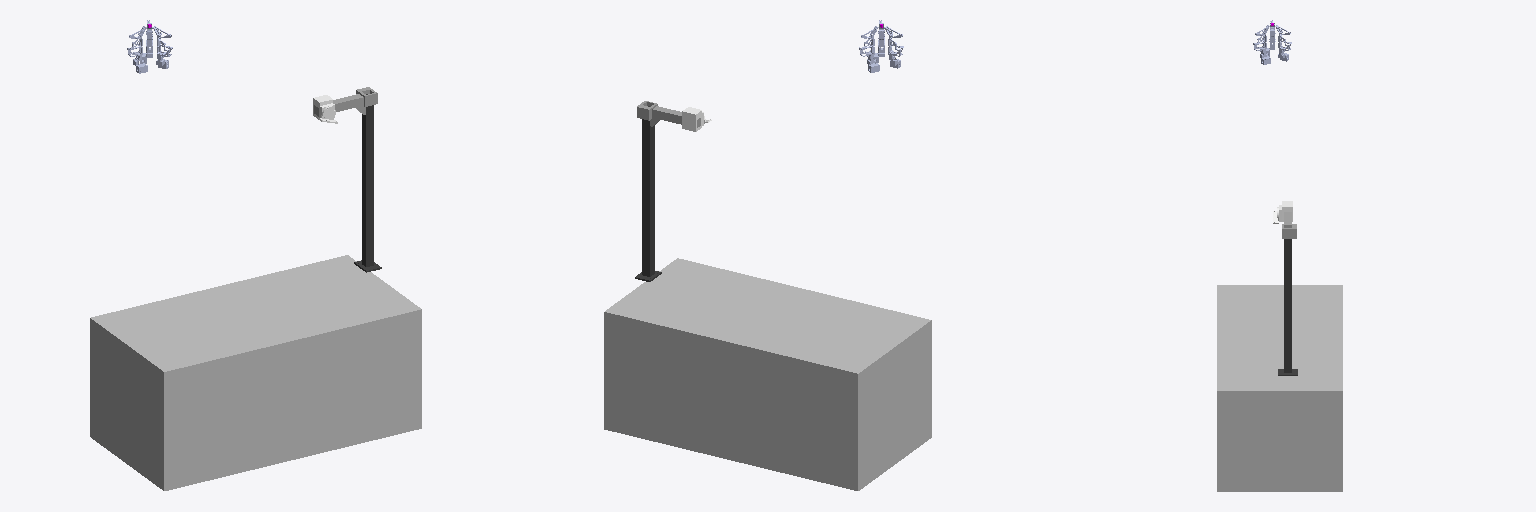
--- Facts derived from the render (not from the file) ---
The picture shows the robot from 3 angles, left to right: view 1: azimuth 30°, elevation 25°; view 2: azimuth 150°, elevation 25°; view 3: azimuth 270°, elevation 25°; orthographic projection.
Robot: picking — 27 links, 26 joints (10 revolute, 3 prismatic, 13 fixed); root link world_base; default pose: every joint at zero.
Links seen in each view (by area): view 1: plate_link, cam_stand_link, cam_stand_arm_link; view 2: plate_link, cam_stand_link, cam_stand_arm_link; view 3: plate_link, cam_stand_link.
Link boxes in pixels (x1,y1,x2,y2): plate_link: (90, 255, 421, 490); cam_stand_link: (354, 94, 381, 272); cam_stand_arm_link: (314, 87, 377, 116); plate_link: (604, 258, 931, 490); cam_stand_link: (635, 106, 661, 281); cam_stand_arm_link: (637, 101, 700, 127); plate_link: (1217, 285, 1342, 491); cam_stand_link: (1278, 239, 1297, 375).
Bounding box of the posed robot: 1.62 × 0.8 × 2.6 m (x, y, z).
11 mesh visuals loaded from 23 distinct referenced files (11 binary STL); not drawn: 12 (reference not matched to a file when rendering).

robot.urdf — picking:
<?xml version="1.0" ?>
<!-- =================================================================================== -->
<!-- |    This document was autogenerated by xacro from [local-path]/catkin_ws/src/twc-stable-push-task/description/push_description/urdf/picking.xacro | -->
<!-- |    EDITING THIS FILE BY HAND IS NOT RECOMMENDED                                 | -->
<!-- =================================================================================== -->
<robot name="picking">
    <!-- robotiq, calibration, hanyang -->
    <!-- [rad] -->
    <!-- [0 ~ 1.5] [rad] -->
    <!-- true, false -->
    <!-- world base link -->
    <link name="world_base" />
    <!-- table -->
    <link name="table_link">
        <visual>
            <origin rpy="0 0 1.5707963267948966" xyz="0 0 0" />
            <geometry>
                <mesh filename="package://honeycomb_and_plate_description/meshes/honeycomb_table_simplified.dae" />
            </geometry>
            <material name="table_link_material">
                <color rgba="0.5 0.5 0.5 1" />
            </material>
        </visual>
        <collision>
            <origin rpy="0.0 0.0 0.0" xyz="0.0 0.0 -0.05" />
            <geometry>
                <box size="1.6 0.8 0.1" />
            </geometry>
            <origin rpy="0 0 0" xyz="0 0 0" />
        </collision>
        <inertial>
            <mass value="0.1" />
            <origin xyz="0 0 0" rpy="0 0 0" />
            <inertia ixx="0.03" iyy="0.03" izz="0.03" ixy="0.0" ixz="0.0" iyz="0.0" />
        </inertial>
    </link>
    <!-- plate -->
    <link name="plate_link">
        <visual>
            <origin rpy="0 0 0" xyz="0 0 0.354" />
            <geometry>
                <box size="1.6 0.8 0.708" />
            </geometry>
            <material name="plate_link">
                <color rgba="0.8 0.8 0.8 1" />
            </material>
        </visual>
    </link>
    <joint name="plate_joint" type="fixed">
        <parent link="table_link" />
        <child link="plate_link" />
        <origin rpy="0 0 0" xyz="0 0 -0.798" />
    </joint>
    <joint name="world-env_joint" type="fixed">
        <parent link="world_base" />
        <child link="table_link" />
        <origin rpy="0 0 0" xyz="0 0 0" />
    </joint>
    <!-- base link -->
    <link name="manipulator_base_link" />
    <material name="black">
        <color rgba="0.0 0.0 0.0 1.0" />
    </material>
    <material name="white">
        <color rgba="1.0 1.0 1.0 1.0" />
    </material>
    <material name="orange">
        <color rgba="1.0 0.4 0.0 1.0" />
    </material>
    <material name="dr_gray">
        <color rgba="0.490 0.490 0.486 1.0" />
    </material>
    <material name="dr_white">
        <color rgba="0.941 0.941 0.941 1.0" />
    </material>
    <link name="base_0">
        <inertial>
            <mass value="4.12" />
            <origin xyz="-3.4e-05   -0.004815    0.048482" />
            <inertia ixx="0.016331" ixy="-6.4837e-06" ixz="2.0048e-06" iyy="0.014945" iyz="-0.00051686" izz="0.022577" />
        </inertial>
        <visual>
            <origin rpy="0 0 0" xyz="0 0 0" />
            <geometry>
                <mesh filename="package://dsr_description/meshes/m1013_white/MF1013_0_0.dae" scale="0.001 0.001 0.001" />
            </geometry>
        </visual>
    </link>
    <!-- joint 1 -->
    <joint name="joint1" type="revolute">
        <parent link="base_0" />
        <child link="link1" />
        <origin rpy="0 0 0" xyz="0 0 0.1525" />
        <axis xyz="0 0 1" />
        <limit effort="346" lower="-6.2832" upper="6.2832" velocity="2.0944" />
        <dynamics friction="0" />
    </joint>
    <link name="link1">
        <inertial>
            <mass value="7.8" />
            <origin xyz="0.000119      0.0428   -0.006383" rpy="0 0 0" />
            <inertia ixx="0.04506" ixy="4.1126e-05" ixz="-5.2533e-05" iyy="0.029679" iyz="-0.0019959" izz="0.047056" />
        </inertial>
        <collision>
            <geometry>
                <cylinder length="0.2" radius="0.1" />
            </geometry>
        </collision>
        <visual>
            <origin rpy="0 0 0" xyz="0 0 0" />
            <geometry>
                <mesh filename="package://dsr_description/meshes/m1013_white/MF1013_1_0.dae" scale="0.001 0.001 0.001" />
            </geometry>
        </visual>
    </link>
    <!-- joint2 -->
    <joint name="joint2" type="revolute">
        <parent link="link1" />
        <child link="link2" />
        <origin rpy="0 -1.571 -1.571" xyz="0 0.0345 0" />
        <axis xyz="0 0 1" />
        <limit effort="346" lower="-6.2832" upper="6.2832" velocity="2.0944" />
        <dynamics friction="0" />
    </joint>
    <link name="link2">
        <inertial>
            <mass value="10.83" />
            <origin xyz="0.25973    -5.3e-05     0.15782" rpy="0 0 0" />
            <inertia ixx="0.037586" ixy="-0.00036999" ixz="-0.0069927" iyy="0.84943" iyz="4.0201e-05" izz="0.85021" />
        </inertial>
        <collision>
            <origin rpy="0 -1.571 0" xyz="0.3 0 0.1525" />
            <geometry>
                <cylinder length="0.75" radius="0.08" />
            </geometry>
        </collision>
        <visual>
            <origin rpy="0 0 0" xyz="0 0 0" />
            <geometry>
                <mesh filename="package://dsr_description/meshes/m1013_white/MF1013_2_0.dae" scale="0.001 0.001 0.001" />
            </geometry>
        </visual>
        <visual>
            <origin rpy="0 0 0" xyz="0 0 0" />
            <geometry>
                <mesh filename="package://dsr_description/meshes/m1013_white/MF1013_2_1.dae" scale="0.001 0.001 0.001" />
            </geometry>
        </visual>
        <visual>
            <origin rpy="0 0 0" xyz="0 0 0" />
            <geometry>
                <mesh filename="package://dsr_description/meshes/m1013_white/MF1013_2_2.dae" scale="0.001 0.001 0.001" />
            </geometry>
        </visual>
    </link>
    <!-- joint3 -->
    <joint name="joint3" type="revolute">
        <parent link="link2" />
        <child link="link3" />
        <origin rpy="0 0 1.571" xyz="0.62 0 0" />
        <axis xyz="0 0 1" />
        <limit effort="163" lower="-2.7925" upper="2.7925" velocity="3.1416" />
        <dynamics friction="0" />
    </joint>
    <link name="link3">
        <inertial>
            <mass value="3.68" />
            <origin xyz="-1.5e-05   -0.006702    0.044608" />
            <inertia ixx="0.018748" ixy="7.8071e-06" ixz="-5.0324e-06" iyy="0.018972" iyz="-0.00099342" izz="0.011502" />
        </inertial>
        <visual>
            <origin rpy="0 0 0" xyz="0 0 0" />
            <geometry>
                <mesh filename="package://dsr_description/meshes/m1013_white/MF1013_3_0.dae" scale="0.001 0.001 0.001" />
            </geometry>
        </visual>
    </link>
    <!-- joint4 -->
    <joint name="joint4" type="revolute">
        <parent link="link3" />
        <child link="link4" />
        <origin rpy="1.571 0 0" xyz="0 -0.559 0" />
        <axis xyz="0 0 1" />
        <limit effort="50" lower="-6.2832" upper="6.2832" velocity="3.927" />
        <dynamics friction="0" />
    </joint>
    <link name="link4">
        <inertial>
            <mass value="3.82" />
            <origin xyz="7.1e-05    0.091879    -0.18252" rpy="0 0 0" />
            <inertia ixx="0.19063" ixy="-1.8037e-05" ixz="-3.8576e-05" iyy="0.17268" iyz="-0.052996" izz="0.030386" />
        </inertial>
        <collision>
            <origin rpy="-0.55 0 0" xyz="0 0.07 -0.3" />
            <geometry>
                <cylinder length="0.4" radius="0.07" />
            </geometry>
        </collision>
        <visual>
            <origin rpy="0 0 0" xyz="0 0 0" />
            <geometry>
                <mesh filename="package://dsr_description/meshes/m1013_white/MF1013_4_0.dae" scale="0.001 0.001 0.001" />
            </geometry>
        </visual>
        <visual>
            <origin rpy="0 0 0" xyz="0 0 0" />
            <geometry>
                <mesh filename="package://dsr_description/meshes/m1013_white/MF1013_4_1.dae" scale="0.001 0.001 0.001" />
            </geometry>
        </visual>
    </link>
    <!-- joint5 -->
    <joint name="joint5" type="revolute">
        <parent link="link4" />
        <child link="link5" />
        <origin rpy="-1.571 0 0" xyz="0 0 0" />
        <axis xyz="0 0 1" />
        <limit effort="50" lower="-6.2832" upper="6.2832" velocity="3.927" />
        <dynamics friction="0" />
    </joint>
    <link name="link5">
        <inertial>
            <mass value="2.82" />
            <origin xyz="-0.000273    0.003651    0.032088" rpy="0 0 0" />
            <inertia ixx="0.015583" ixy="2.135e-05" ixz="-5.1895e-06" iyy="0.011519" iyz="0.00042553" izz="0.0088671" />
        </inertial>
        <collision>
            <origin rpy="1.571 0 0" xyz="0 0 0" />
            <geometry>
                <cylinder length="0.15" radius="0.08" />
            </geometry>
        </collision>
        <visual>
            <origin rpy="0 0 0" xyz="0 0 0" />
            <geometry>
                <mesh filename="package://dsr_description/meshes/m1013_white/MF1013_5_0.dae" scale="0.001 0.001 0.001" />
            </geometry>
        </visual>
    </link>
    <!-- joint6 -->
    <joint name="joint6" type="revolute">
        <parent link="link5" />
        <child link="link6" />
        <origin rpy="1.571 0 0" xyz="0 -0.121 0" />
        <axis xyz="0 0 1" />
        <limit effort="50" lower="-6.2832" upper="6.2832" velocity="3.927" />
        <dynamics friction="0" />
    </joint>
    <link name="link6">
        <inertial>
            <mass value="1.16" />
            <origin xyz="-0.000292       7e-06     -0.0539" />
            <inertia ixx="0.0048282" ixy="4.1298e-06" ixz="6.9879e-06" iyy="0.0059519" iyz="4.252e-06" izz="0.0061263" />
        </inertial>
        <visual>
            <origin rpy="0 0 0" xyz="0 0 0" />
            <geometry>
                <mesh filename="package://dsr_description/meshes/m1013_white/MF1013_6_0.dae" scale="0.001 0.001 0.001" />
            </geometry>
        </visual>
    </link>
    <!-- Transmission 1 -->
    <transmission name="tran1">
        <type>transmission_interface/SimpleTransmission</type>
        <joint name="joint1">
            <hardwareInterface>hardware_interface/PositionJointInterface</hardwareInterface>
        </joint>
        <actuator name="motor1">
            <hardwareInterface>hardware_interface/PositionJointInterface</hardwareInterface>
            <mechanicalReduction>1</mechanicalReduction>
        </actuator>
    </transmission>
    <!-- Transmission 2 -->
    <transmission name="tran2">
        <type>transmission_interface/SimpleTransmission</type>
        <joint name="joint2">
            <hardwareInterface>hardware_interface/PositionJointInterface</hardwareInterface>
        </joint>
        <actuator name="motor2">
            <hardwareInterface>hardware_interface/PositionJointInterface</hardwareInterface>
            <mechanicalReduction>1</mechanicalReduction>
        </actuator>
    </transmission>
    <!-- Transmission 3 -->
    <transmission name="tran3">
        <type>transmission_interface/SimpleTransmission</type>
        <joint name="joint3">
            <hardwareInterface>hardware_interface/PositionJointInterface</hardwareInterface>
        </joint>
        <actuator name="motor3">
            <hardwareInterface>hardware_interface/PositionJointInterface</hardwareInterface>
            <mechanicalReduction>1</mechanicalReduction>
        </actuator>
    </transmission>
    <!-- Transmission 4 -->
    <transmission name="tran4">
        <type>transmission_interface/SimpleTransmission</type>
        <joint name="joint4">
            <hardwareInterface>hardware_interface/PositionJointInterface</hardwareInterface>
        </joint>
        <actuator name="motor4">
            <hardwareInterface>hardware_interface/PositionJointInterface</hardwareInterface>
            <mechanicalReduction>1</mechanicalReduction>
        </actuator>
    </transmission>
    <!-- Transmission 5 -->
    <transmission name="tran5">
        <type>transmission_interface/SimpleTransmission</type>
        <joint name="joint5">
            <hardwareInterface>hardware_interface/PositionJointInterface</hardwareInterface>
        </joint>
        <actuator name="motor5">
            <hardwareInterface>hardware_interface/PositionJointInterface</hardwareInterface>
            <mechanicalReduction>1</mechanicalReduction>
        </actuator>
    </transmission>
    <!-- Transmission 6 -->
    <transmission name="tran6">
        <type>transmission_interface/SimpleTransmission</type>
        <joint name="joint6">
            <hardwareInterface>hardware_interface/PositionJointInterface</hardwareInterface>
        </joint>
        <actuator name="motor6">
            <hardwareInterface>hardware_interface/PositionJointInterface</hardwareInterface>
            <mechanicalReduction>1</mechanicalReduction>
        </actuator>
    </transmission>
    <!-- Base -->
    <selfCollide>true</selfCollide>
    <gazebo reference="dsr01">
        <selfCollide>true</selfCollide>
        <plugin name="gazebo_ros_control">
            <robotNamespace>/</robotNamespace>
        </plugin>
    </gazebo>
    <gazebo reference="base_0">
        <selfCollide>true</selfCollide>
        <kp>1000000.0</kp>
        <kd>100.0</kd>
        <mu1>30.0</mu1>
        <mu2>30.0</mu2>
        <maxVel>1.0</maxVel>
        <minDepth>0.001</minDepth>
    </gazebo>
    <!-- Link1 -->
    <gazebo reference="link1">
        <selfCollide>true</selfCollide>
        <kp>1000000.0</kp>
        <kd>100.0</kd>
        <mu1>30.0</mu1>
        <mu2>30.0</mu2>
        <maxVel>1.0</maxVel>
        <minDepth>0.001</minDepth>
    </gazebo>
    <!-- Link2 -->
    <gazebo reference="link2">
        <selfCollide>true</selfCollide>
        <kp>1000000.0</kp>
        <kd>100.0</kd>
        <mu1>30.0</mu1>
        <mu2>30.0</mu2>
        <maxVel>1.0</maxVel>
        <minDepth>0.001</minDepth>
    </gazebo>
    <!-- Link3 -->
    <gazebo reference="link3">
        <selfCollide>true</selfCollide>
        <kp>1000000.0</kp>
        <kd>100.0</kd>
        <mu1>30.0</mu1>
        <mu2>30.0</mu2>
        <maxVel>1.0</maxVel>
        <minDepth>0.001</minDepth>
    </gazebo>
    <!-- Link4 -->
    <gazebo reference="link4">
        <selfCollide>true</selfCollide>
        <kp>1000000.0</kp>
        <kd>100.0</kd>
        <mu1>30.0</mu1>
        <mu2>30.0</mu2>
        <maxVel>1.0</maxVel>
        <minDepth>0.001</minDepth>
    </gazebo>
    <!-- Link5 -->
    <gazebo reference="link5">
        <selfCollide>true</selfCollide>
        <kp>1000000.0</kp>
        <kd>100.0</kd>
        <mu1>30.0</mu1>
        <mu2>30.0</mu2>
        <maxVel>1.0</maxVel>
        <minDepth>0.001</minDepth>
    </gazebo>
    <!-- Link6 -->
    <gazebo reference="link6">
        <selfCollide>true</selfCollide>
        <kp>1000000.0</kp>
        <kd>100.0</kd>
        <mu1>30.0</mu1>
        <mu2>30.0</mu2>
        <maxVel>1.0</maxVel>
        <minDepth>0.001</minDepth>
    </gazebo>
    <!-- ros_control plugin -->
    <gazebo>
        <selfCollide>true</selfCollide>
        <plugin filename="libgazebo_ros_control.so" name="gazebo_ros_control">
            <robotNamespace>/m1013_</robotNamespace>
            <controlPeriod>0.001</controlPeriod>
            <robotSimType>gazebo_ros_control/DefaultRobotHWSim</robotSimType>
            <legacyModeNS>true</legacyModeNS>
        </plugin>
    </gazebo>
    <joint name="world-m1013_joint" type="fixed">
        <origin rpy="0 0 0" xyz="0 0 0" />
        <parent link="manipulator_base_link" />
        <child link="base_0" />
    </joint>
    <joint name="table-manipulator_joint" type="fixed">
        <parent link="world_base" />
        <child link="manipulator_base_link" />
        <origin rpy="0.0000 0.0000 3.141592653589793" xyz="-0.6875 -0.0125 0.0000" />
    </joint>
    <link name="hanyang_base_link">
        <inertial>
            <origin rpy="0 0 0" xyz="0.0032794 0.0036243 -0.085843" />
            <mass value="1.1991" />
            <inertia ixx="0.0032705" ixy="-8.8997E-06" ixz="5.8891E-09" iyy="0.0032572" iyz="-1.1733E-07" izz="0.0061866" />
        </inertial>
        <visual>
            <origin rpy="0 0 0" xyz="0 0 0" />
            <geometry>
                <mesh filename="package://hanyang_gripper/meshes/base_link.STL" />
            </geometry>
            <material name="">
                <color rgba="0.79216 0.81961 0.93333 1" />
            </material>
        </visual>
        <collision>
            <origin rpy="0 0 0" xyz="0 0 0" />
            <geometry>
                <mesh filename="package://hanyang_gripper/meshes/base_link.STL" />
            </geometry>
        </collision>
    </link>
    <link name="finger_hinge_1_link">
        <inertial>
            <origin rpy="0 0 0" xyz="0.065641 -0.0079398 -0.0097225" />
            <mass value="0.075006" />
            <inertia ixx="2.2862E-05" ixy="-4.1935E-06" ixz="-1.113E-06" iyy="2.0983E-05" iyz="-2.3625E-06" izz="3.2464E-05" />
        </inertial>
        <visual>
            <origin rpy="0 0 0" xyz="0 0 0" />
            <geometry>
                <mesh filename="package://hanyang_gripper/meshes/finger_hinge_1_link.STL" />
            </geometry>
            <material name="">
                <color rgba="0.79216 0.81961 0.93333 1" />
            </material>
        </visual>
    </link>
    <joint name="finger_hinge_1_joint" type="prismatic">
        <origin rpy="0 0 -3.1416" xyz="0.13675 -0.0335 -0.115" />
        <parent link="hanyang_base_link" />
        <child link="finger_hinge_1_link" />
        <axis xyz="-1 0 0" />
        <limit effort="10" lower="0" upper="0.129" velocity="10" />
    </joint>
    <link name="finger_hinge_2_link">
        <inertial>
            <origin rpy="0 0 0" xyz="-0.0028372 -2.095E-05 0.057266" />
            <mass value="0.067705" />
            <inertia ixx="1.3529E-05" ixy="1.1024E-06" ixz="-2.9156E-06" iyy="2.022E-05" iyz="7.2143E-07" izz="1.741E-05" />
        </inertial>
        <visual>
            <origin rpy="0 0 0" xyz="0 0 0" />
            <geometry>
                <mesh filename="package://hanyang_gripper/meshes/finger_hinge_2_link.STL" />
            </geometry>
            <material name="">
                <color rgba="0.79216 0.81961 0.93333 1" />
            </material>
        </visual>
    </link>
    <joint name="finger_hinge_2_joint" type="revolute">
        <origin rpy="-3.1416 0 -3.1416" xyz="0.060883 -0.034 -0.0408" />
        <parent link="finger_hinge_1_link" />
        <child link="finger_hinge_2_link" />
        <axis xyz="0 1 0" />
        <limit effort="10" lower="-1.570796" upper="0" velocity="10" />
    </joint>
    <link name="finger_hinge_3_link">
        <inertial>
            <origin rpy="0 0 0" xyz="0.005275 0.0017219 0.027803" />
            <mass value="0.024551" />
            <inertia ixx="2.8212E-06" ixy="4.4824E-09" ixz="1.3164E-06" iyy="5.5805E-06" iyz="-2.68E-08" izz="5.0262E-06" />
        </inertial>
        <visual>
            <origin rpy="0 0 0" xyz="0 0 0" />
            <geometry>
                <mesh filename="package://hanyang_gripper/meshes/finger_hinge_3_link.STL" />
            </geometry>
            <material name="">
                <color rgba="0.79216 0.81961 0.93333 1" />
            </material>
        </visual>
    </link>
    <joint name="finger_hinge_3_joint" type="revolute">
        <origin rpy="0 0 0" xyz="-0.013 0.00125 0.1269" />
        <parent link="finger_hinge_2_link" />
        <child link="finger_hinge_3_link" />
        <axis xyz="0 -1 0" />
        <limit effort="10" lower="-0.13963" upper="0.349065777777778" velocity="10" />
    </joint>
    <link name="finger_1_1_link">
        <inertial>
            <origin rpy="0 0 0" xyz="0.065932 -0.02114 -0.050052" />
            <mass value="0.15457" />
            <inertia ixx="3.8904E-05" ixy="-1.1423E-06" ixz="-2.8992E-06" iyy="4.546E-05" iyz="-7.4443E-07" izz="4.8395E-05" />
        </inertial>
        <visual>
            <origin rpy="0 0 0" xyz="0 0 0" />
            <geometry>
                <mesh filename="package://hanyang_gripper/meshes/finger_1_1_link.STL" />
            </geometry>
            <material name="">
                <color rgba="0.79216 0.81961 0.93333 1" />
            </material>
        </visual>
    </link>
    <joint name="finger_1_1_joint" type="prismatic">
        <origin rpy="0 0 1.0472" xyz="-0.097387 -0.10168 -0.115" />
        <parent link="hanyang_base_link" />
        <child link="finger_1_1_link" />
        <axis xyz="-1 0 0" />
        <limit effort="10" lower="0" upper="0.129" velocity="10" />
    </joint>
    <link name="finger_1_2_link">
        <inertial>
            <origin rpy="0 0 0" xyz="-0.010542 0.0017219 -0.027803" />
            <mass value="0.024551" />
            <inertia ixx="2.8212E-06" ixy="-4.4826E-09" ixz="1.3164E-06" iyy="5.5805E-06" iyz="2.6801E-08" izz="5.0262E-06" />
        </inertial>
        <visual>
            <origin rpy="0 0 0" xyz="0 0 0" />
            <geometry>
                <mesh filename="package://hanyang_gripper/meshes/finger_1_2_link.STL" />
            </geometry>
            <material name="">
                <color rgba="0.79216 0.81961 0.93333 1" />
            </material>
        </visual>
    </link>
    <joint name="finger_1_2_joint" type="revolute">
        <origin rpy="0 0 0" xyz="0.07675 -0.03275 -0.168" />
        <parent link="finger_1_1_link" />
        <child link="finger_1_2_link" />
        <axis xyz="0 -1 0" />
        <limit effort="10" lower="-0.13963" upper="0.349065777777778" velocity="10" />
    </joint>
    <link name="finger_2_1_link">
        <inertial>
            <origin rpy="0 0 0" xyz="0.065932 -0.02114 -0.050052" />
            <mass value="0.15457" />
            <inertia ixx="3.8904E-05" ixy="-1.1423E-06" ixz="-2.8992E-06" iyy="4.546E-05" iyz="-7.4443E-07" izz="4.8395E-05" />
        </inertial>
        <visual>
            <origin rpy="0 0 0" xyz="0 0 0" />
            <geometry>
                <mesh filename="package://hanyang_gripper/meshes/finger_2_1_link.STL" />
            </geometry>
            <material name="">
                <color rgba="0.79216 0.81961 0.93333 1" />
            </material>
        </visual>
    </link>
    <joint name="finger_2_1_joint" type="prismatic">
        <origin rpy="0 0 -1.0472" xyz="-0.039363 0.13518 -0.115" />
        <parent link="hanyang_base_link" />
        <child link="finger_2_1_link" />
        <axis xyz="-1 0 0" />
        <limit effort="10" lower="0" upper="0.129" velocity="10" />
    </joint>
    <link name="finger_2_2_link">
        <inertial>
            <origin rpy="0 0 0" xyz="-0.010542 0.0017219 -0.027803" />
            <mass value="0.024551" />
            <inertia ixx="2.8212E-06" ixy="-4.4824E-09" ixz="1.3164E-06" iyy="5.5805E-06" iyz="2.68E-08" izz="5.0262E-06" />
        </inertial>
        <visual>
            <origin rpy="0 0 0" xyz="0 0 0" />
            <geometry>
                <mesh filename="package://hanyang_gripper/meshes/finger_2_2_link.STL" />
            </geometry>
            <material name="">
                <color rgba="0.79216 0.81961 0.93333 1" />
            </material>
        </visual>
    </link>
    <joint name="finger_2_2_joint" type="revolute">
        <origin rpy="0 0 0" xyz="0.07675 -0.03275 -0.168" />
        <parent link="finger_2_1_link" />
        <child link="finger_2_2_link" />
        <axis xyz="0 -1 0" />
        <limit effort="10" lower="-0.13963" upper="0.349065777777778" velocity="10" />
    </joint>
    <link name="grasp_point">
        <visual>
            <origin rpy="0 0 0" xyz="0 0 0" />
            <geometry>
                <box size="0.015 0.015 0.015" />
            </geometry>
            <material name="grasp_point">
                <color rgba="1 0 1 0.1" />
            </material>
        </visual>
    </link>
    <joint name="grasp_point_base" type="fixed">
        <parent link="hanyang_base_link" />
        <child link="grasp_point" />
        <origin rpy="0 0 0" xyz="0 0 -0.343421" />
    </joint>
    <joint name="m1013-mount_joint" type="fixed">
        <parent link="link6" />
        <child link="hanyang_base_link" />
        <origin rpy="3.141592653589793 0 0" xyz="0 0 0" />
    </joint>
    <!-- material color set -->
    <material name="camera_black">
        <color rgba="0.0 0.0 0.0 1.0" />
    </material>
    <material name="camera_white">
        <color rgba="1.0 1.0 1.0 1.0" />
    </material>
    <material name="camera_light_gray">
        <color rgba="0.7 0.7 0.7 1.0" />
    </material>
    <material name="camera_dark_gray">
        <color rgba="0.3 0.3 0.3 1.0" />
    </material>
    <material name="cam_stand_color">
        <color rgba="0.3 0.3 0.3 1.0" />
    </material>
    <!-- base link -->
    <link name="cam_stand_base_link" />
    <!-- stand base link -->
    <!-- link -->
    <link name="cam_stand_link">
        <visual>
            <origin rpy="1.5707963267948966 0 -1.5707963267948966" xyz="0.0475 0.065 0" />
            <geometry>
                <mesh filename="package://tools_description/meshes/camera_stand/camera_stand_base.STL" scale="0.001 0.001 0.001" />
            </geometry>
            <material name="cam_stand_color" />
        </visual>
        <collision>
            <origin rpy="0 0 0" xyz="0 0 0.505" />
            <geometry>
                <box size="0.1 0.1 1.010" />
            </geometry>
        </collision>
        <inertial>
            <mass value="0.1" />
            <origin xyz="0 0 0" rpy="0 0 0" />
            <inertia ixx="0.03" iyy="0.03" izz="0.03" ixy="0.0" ixz="0.0" iyz="0.0" />
        </inertial>
    </link>
    <!-- joint -->
    <joint name="camera_base-stand_joint" type="fixed">
        <parent link="cam_stand_base_link" />
        <child link="cam_stand_link" />
        <origin rpy="0 0 0" xyz="0 0 0" />
    </joint>
    <!-- stand arm link -->
    <!-- link -->
    <link name="cam_stand_arm_link">
        <visual>
            <origin rpy="1.5707963267948966 0 -1.5707963267948966" xyz="0.32 0.035 -0.081" />
            <geometry>
                <mesh filename="package://tools_description/meshes/camera_stand/camera_stand_arm.STL" scale="0.001 0.001 0.001" />
            </geometry>
            <material name="camera_light_gray" />
        </visual>
        <collision>
            <origin rpy="0 0 0" xyz="0.16 0 0" />
            <geometry>
                <box size="0.320 0.05 0.05" />
            </geometry>
        </collision>
        <inertial>
            <mass value="0.1" />
            <origin xyz="0 0 0" rpy="0 0 0" />
            <inertia ixx="0.03" iyy="0.03" izz="0.03" ixy="0.0" ixz="0.0" iyz="0.0" />
        </inertial>
    </link>
    <!-- joint -->
    <joint name="camera_base-arm_joint" type="fixed">
        <parent link="cam_stand_link" />
        <child link="cam_stand_arm_link" />
        <origin rpy="0 0 0" xyz="0 0 0.9985" />
    </joint>
    <!-- mount link -->
    <!-- link -->
    <link name="cam_stage_mount_link">
        <visual>
            <origin rpy="1.5707963267948966 0 1.5707963267948966" xyz="-0.043 -0.035 -0.043" />
            <geometry>
                <mesh filename="package://tools_description/meshes/camera_stand/camera_stage_mount.STL" scale="0.001 0.001 0.001" />
            </geometry>
            <material name="camera_white" />
        </visual>
        <collision>
            <origin rpy="0 0 0" xyz="0 0 0.009" />
            <geometry>
                <box size="0.086 0.070 0.105" />
            </geometry>
        </collision>
        <inertial>
            <mass value="0.1" />
            <origin xyz="0 0 0" rpy="0 0 0" />
            <inertia ixx="0.03" iyy="0.03" izz="0.03" ixy="0.0" ixz="0.0" iyz="0.0" />
        </inertial>
    </link>
    <!-- joint -->
    <joint name="camera_arm-stage_mount_joint" type="fixed">
        <parent link="cam_stand_arm_link" />
        <child link="cam_stage_mount_link" />
        <origin rpy="0 0 0" xyz="0.277 0 0" />
    </joint>
    <!-- stage link -->
    <link name="cam_stage_link">
        <visual>
            <origin rpy="0 0 0" xyz="0 0.01235 0" />
            <geometry>
                <box size="0.080 0.0247 0.080" />
            </geometry>
            <material name="camera_white" />
        </visual>
        <collision>
            <origin rpy="0 0 0" xyz="0 0.01235 0" />
            <geometry>
                <box size="0.080 0.0247 0.080" />
            </geometry>
        </collision>
        <inertial>
            <mass value="0.1" />
            <origin xyz="0 0 0" rpy="0 0 0" />
            <inertia ixx="0.03" iyy="0.03" izz="0.03" ixy="0.0" ixz="0.0" iyz="0.0" />
        </inertial>
    </link>
    <!-- joint -->
    <joint name="camera_stand_mount-stage_joint" type="fixed">
        <parent link="cam_stage_mount_link" />
        <child link="cam_stage_link" />
        <origin rpy="-0.04 0 -0.01" xyz="0 0.032 0" />
    </joint>
    <!-- mount link -->
    <link name="cam_mount_link">
        <visual>
            <!-- <origin xyz="0.04  0 -0.055" rpy="${PI/2} -${PI/2} ${PI}"/> -->
            <origin rpy="1.5707963267948966 -1.5707963267948966 3.141592653589793" xyz="-0.055 0 -0.04" />
            <geometry>
                <mesh filename="package://tools_description/meshes/camera_stand/camera_mount.STL" scale="0.001 0.001 0.001" />
            </geometry>
            <material name="camera_white" />
        </visual>
        <collision>
            <origin rpy="0 0 0" xyz="0 0.02 0" />
            <geometry>
                <box size="0.080 0.040 0.110" />
            </geometry>
        </collision>
        <inertial>
            <mass value="0.1" />
            <origin xyz="0 0 0" rpy="0 0 0" />
            <inertia ixx="0.03" iyy="0.03" izz="0.03" ixy="0.0" ixz="0.0" iyz="0.0" />
        </inertial>
    </link>
    <!-- joint -->
    <joint name="camera_stage-mount_joint" type="fixed">
        <parent link="cam_stage_link" />
        <child link="cam_mount_link" />
        <origin rpy="0 -0.3490658503988659 0" xyz="0 0.0247 0" />
    </joint>
    <!-- link for camera joint -->
    <!-- link -->
    <link name="cam_link" />
    <!-- joint -->
    <joint name="camera_mount_cam_joint" type="fixed">
        <parent link="cam_mount_link" />
        <child link="cam_link" />
        <origin rpy="1.5707963267948966 1.5707963267948966 0" xyz="0 0.030 -0.04" />
    </joint>
    <joint name="table-camera_stand_joint" type="fixed">
        <parent link="world_base" />
        <child link="cam_stand_base_link" />
        <origin rpy="0.0000 0.0000 3.141592653589793" xyz="0.7240 0.0505 0.0000" />
    </joint>
    <transmission name="trans_finger_hinge_1_joint">
        <type>transmission_interface/SimpleTransmission</type>
        <joint name="finger_hinge_1_joint">
            <hardwareInterface>hardware_interface/EffortJointInterface</hardwareInterface>
        </joint>
        <actuator name="finger_hinge_1_joint_motor">
            <hardwareInterface>hardware_interface/EffortJointInterface</hardwareInterface>
            <mechanicalReduction>1</mechanicalReduction>
        </actuator>
    </transmission>
    <transmission name="trans_finger_hinge_2_joint">
        <type>transmission_interface/SimpleTransmission</type>
        <joint name="finger_hinge_2_joint">
            <hardwareInterface>hardware_interface/EffortJointInterface</hardwareInterface>
        </joint>
        <actuator name="finger_hinge_2_joint_motor">
            <hardwareInterface>hardware_interface/EffortJointInterface</hardwareInterface>
            <mechanicalReduction>1</mechanicalReduction>
        </actuator>
    </transmission>
    <transmission name="trans_finger_hinge_3_joint">
        <type>transmission_interface/SimpleTransmission</type>
        <joint name="finger_hinge_3_joint">
            <hardwareInterface>hardware_interface/EffortJointInterface</hardwareInterface>
        </joint>
        <actuator name="finger_hinge_3_joint_motor">
            <hardwareInterface>hardware_interface/EffortJointInterface</hardwareInterface>
            <mechanicalReduction>1</mechanicalReduction>
        </actuator>
    </transmission>
    <transmission name="trans_finger_1_1_joint">
        <type>transmission_interface/SimpleTransmission</type>
        <joint name="finger_1_1_joint">
            <hardwareInterface>hardware_interface/EffortJointInterface</hardwareInterface>
        </joint>
        <actuator name="finger_1_1_joint_motor">
            <hardwareInterface>hardware_interface/EffortJointInterface</hardwareInterface>
            <mechanicalReduction>1</mechanicalReduction>
        </actuator>
    </transmission>
    <transmission name="trans_finger_1_2_joint">
        <type>transmission_interface/SimpleTransmission</type>
        <joint name="finger_1_2_joint">
            <hardwareInterface>hardware_interface/EffortJointInterface</hardwareInterface>
        </joint>
        <actuator name="finger_1_2_joint_motor">
            <hardwareInterface>hardware_interface/EffortJointInterface</hardwareInterface>
            <mechanicalReduction>1</mechanicalReduction>
        </actuator>
    </transmission>
    <transmission name="trans_finger_2_1_joint">
        <type>transmission_interface/SimpleTransmission</type>
        <joint name="finger_2_1_joint">
            <hardwareInterface>hardware_interface/EffortJointInterface</hardwareInterface>
        </joint>
        <actuator name="finger_2_1_joint_motor">
            <hardwareInterface>hardware_interface/EffortJointInterface</hardwareInterface>
            <mechanicalReduction>1</mechanicalReduction>
        </actuator>
    </transmission>
    <transmission name="trans_finger_2_2_joint">
        <type>transmission_interface/SimpleTransmission</type>
        <joint name="finger_2_2_joint">
            <hardwareInterface>hardware_interface/EffortJointInterface</hardwareInterface>
        </joint>
        <actuator name="finger_2_2_joint_motor">
            <hardwareInterface>hardware_interface/EffortJointInterface</hardwareInterface>
            <mechanicalReduction>1</mechanicalReduction>
        </actuator>
    </transmission>
</robot>
